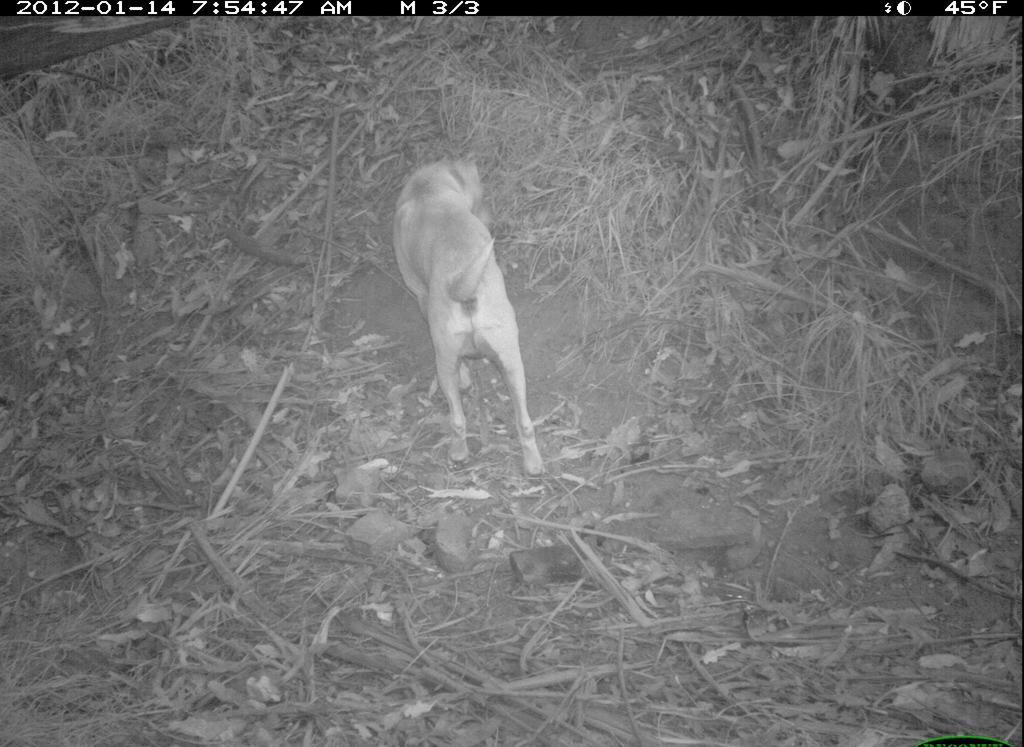dog: (388, 154, 556, 489)
